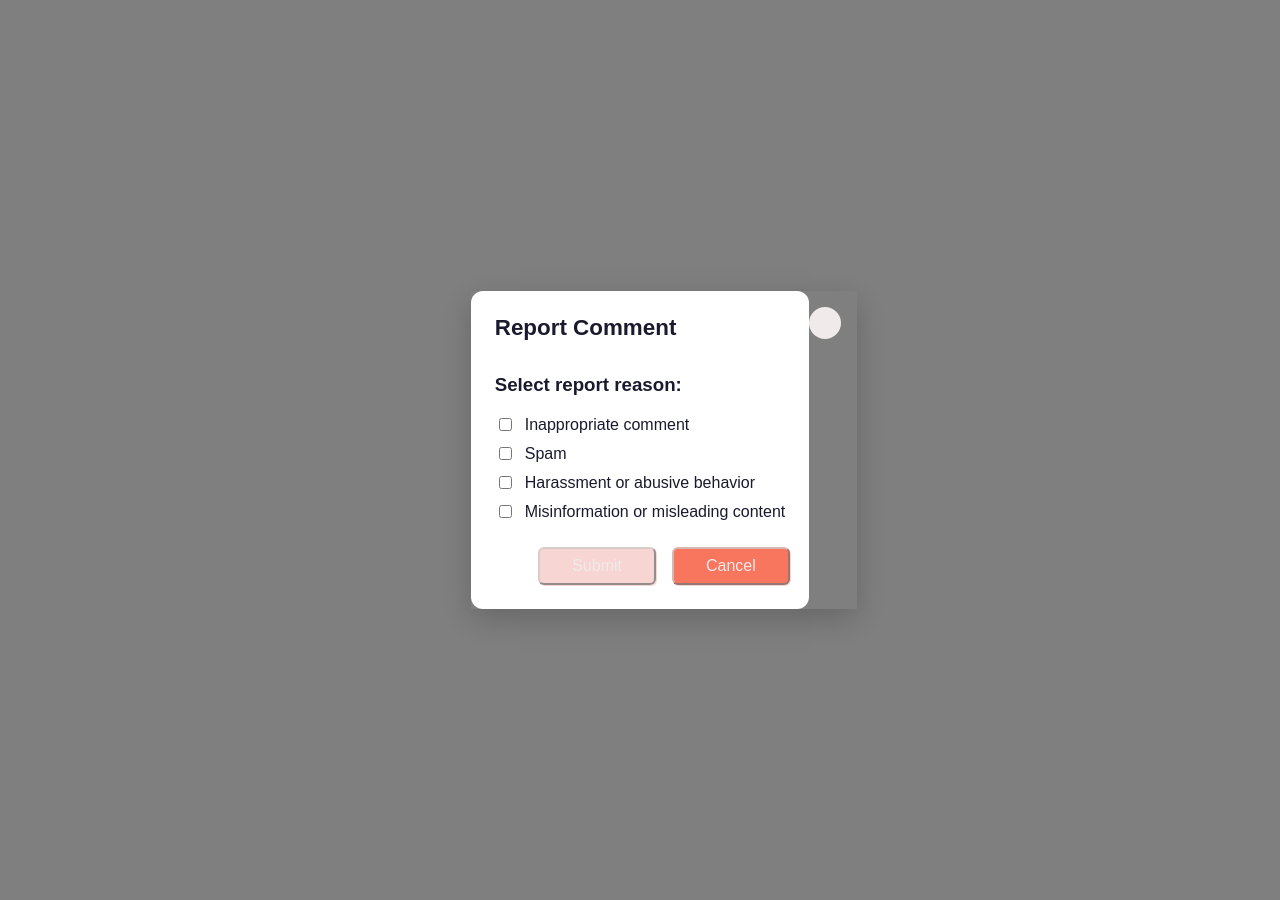
Test: ReportCommentModal › should enable "Submit" button on reason selected
The width and height of the screenshot is (1280, 900).
Click the checkbox labelled "Inappropriate comment" at point(505, 425), box [499, 418, 512, 431]
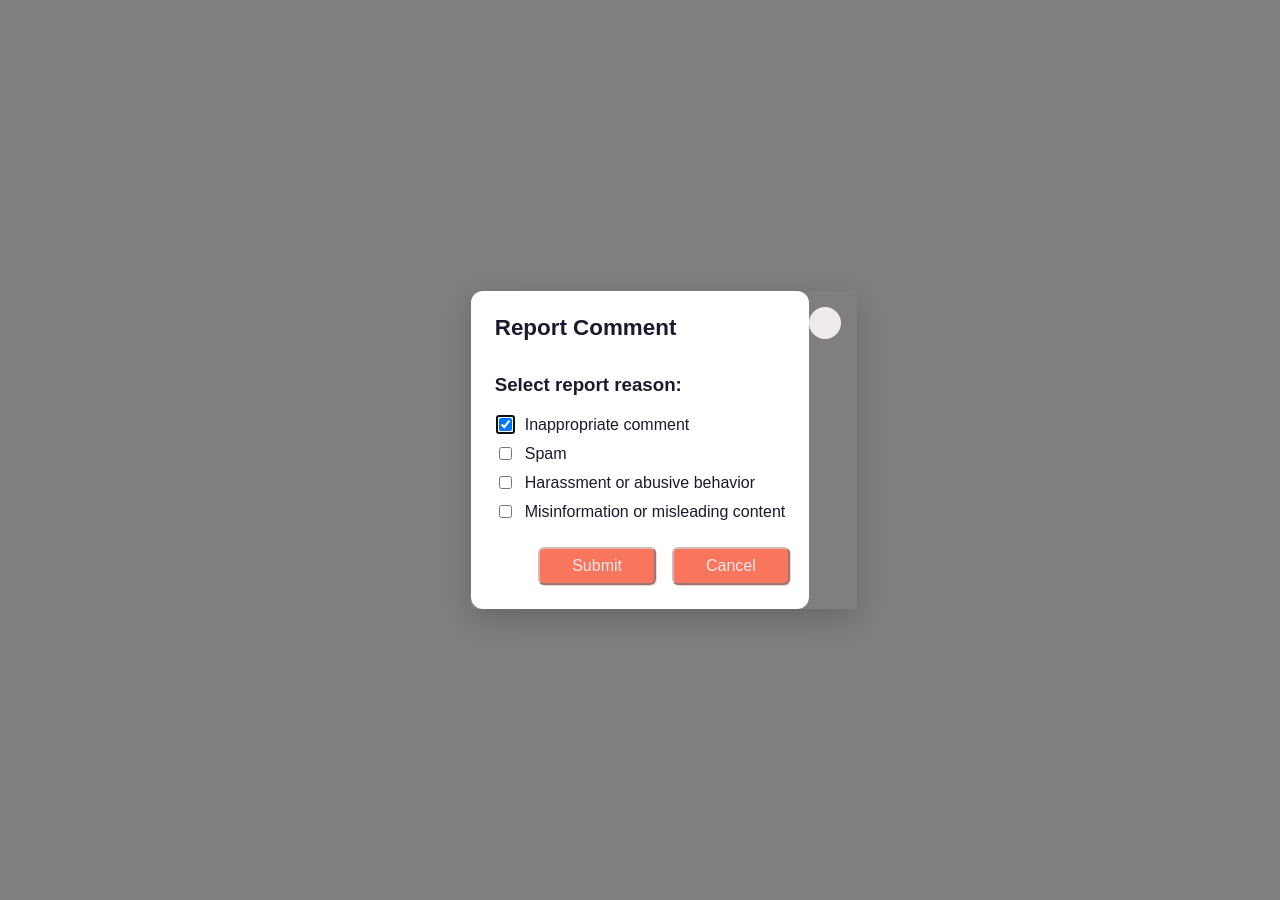
Expected: the button "Submit" is enabled, [538, 547, 656, 585]
